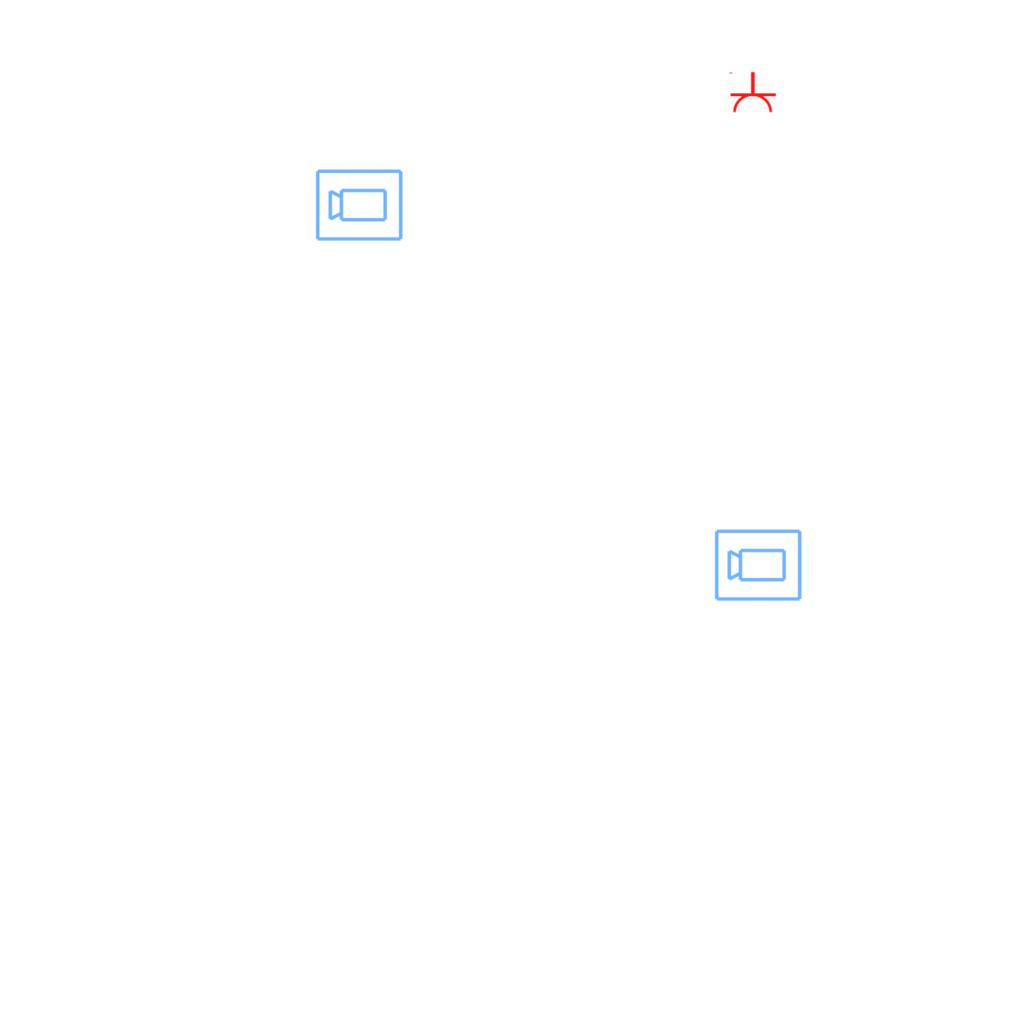KFO_Kamera_mit_Festobjektiv: (314, 166, 405, 243), (713, 526, 804, 603)
Schukosteckdose_einfach: (727, 71, 777, 114)
